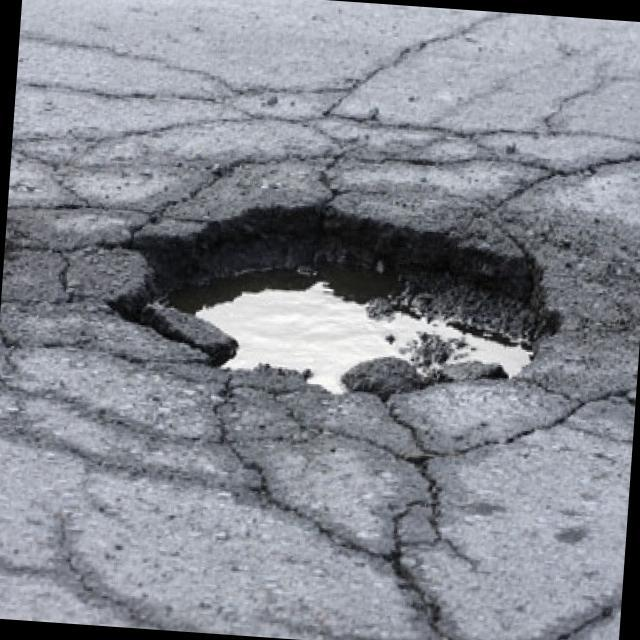Pothole: (108, 168, 588, 447)
